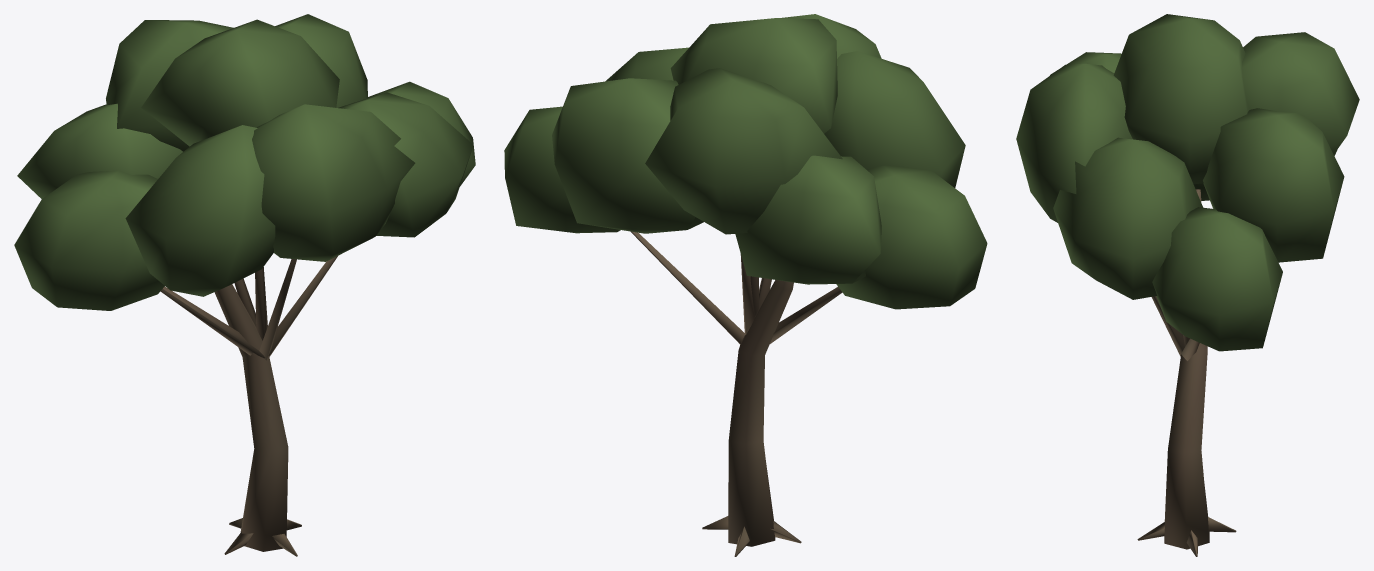
Rendered from tree_elm_lod1.glb.
The picture shows the model from 3 angles, left to right: view 1: azimuth 30°, elevation 25°; view 2: azimuth 150°, elevation 25°; view 3: azimuth 270°, elevation 25°; orthographic projection. The views are drawn at different scales.
Visible parts, largest first — view 1: tree_elm_lod1_canopy, tree_elm_lod1_wood; view 2: tree_elm_lod1_canopy, tree_elm_lod1_wood; view 3: tree_elm_lod1_canopy, tree_elm_lod1_wood.
Boxes of the visible parts, x1,y1,x2,y2 form: tree_elm_lod1_canopy: (14,14,475,310); tree_elm_lod1_wood: (160,256,337,556); tree_elm_lod1_canopy: (504,14,987,309); tree_elm_lod1_wood: (630,231,842,556); tree_elm_lod1_canopy: (1016,14,1359,351); tree_elm_lod1_wood: (1137,189,1236,556).
Bounding box in the file's own units: 6.65 × 7.27 × 4.46.
